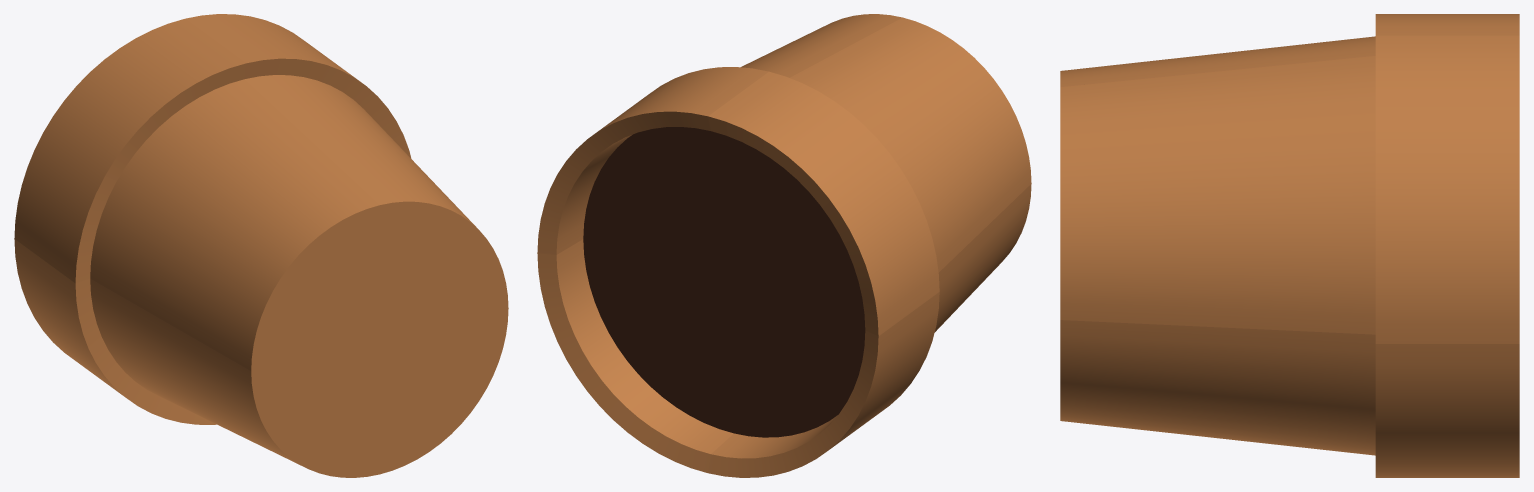
The model's file is Blumentopf 1.fbx.
3 views of the same model, side by side, from view 1: azimuth 30°, elevation 25°; view 2: azimuth 150°, elevation 25°; view 3: azimuth 270°, elevation 25° (orthographic). The views are drawn at different scales.
Visible parts, largest first — view 1: Cylinder, Cylinder.003, Cylinder.002, Cylinder.004; view 2: Cylinder.001, Cylinder, Cylinder.003, Cylinder.002, Cylinder.004; view 3: Cylinder.002, Cylinder.004, Cylinder.
Part boxes in pixels (x1,y1,x2,y2): Cylinder: [14, 19, 379, 370]; Cylinder.003: [14, 239, 379, 477]; Cylinder.002: [185, 14, 508, 339]; Cylinder.004: [380, 308, 508, 474]; Cylinder.001: [583, 127, 865, 437]; Cylinder: [708, 17, 1031, 336]; Cylinder.003: [708, 184, 1031, 477]; Cylinder.002: [537, 14, 902, 254]; Cylinder.004: [537, 239, 733, 472]; Cylinder.002: [1060, 35, 1519, 343]; Cylinder.004: [1060, 320, 1519, 477]; Cylinder: [1060, 14, 1519, 87].
Size of the model in its own units: 214 by 214 by 211.
